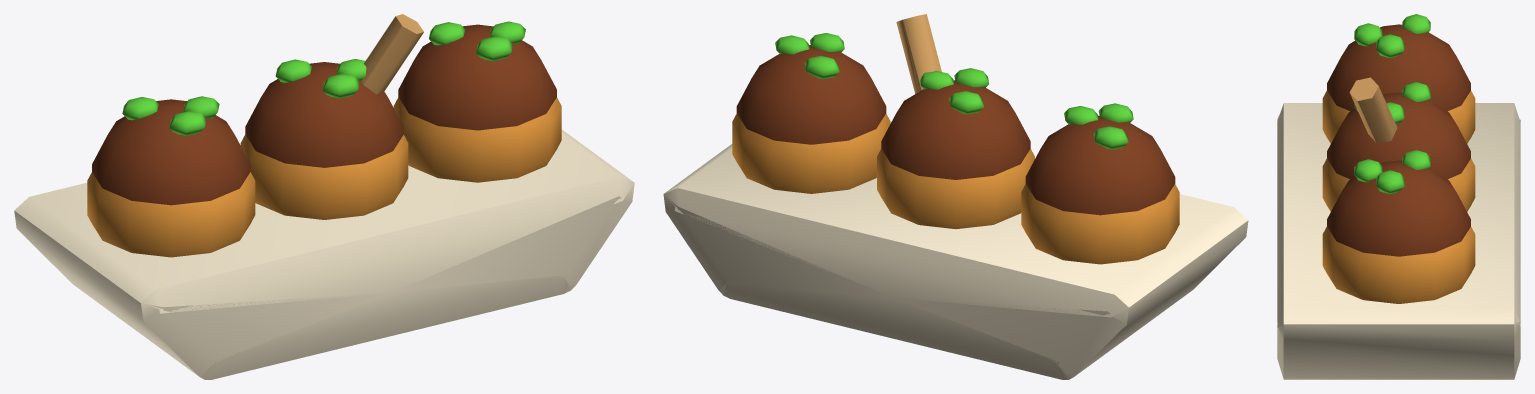
The model's file is Food_takoyaki.glb.
The picture shows the model from 3 angles, left to right: view 1: azimuth 30°, elevation 25°; view 2: azimuth 150°, elevation 25°; view 3: azimuth 270°, elevation 25°; orthographic projection. The views are drawn at different scales.
Parts seen in each view (by area): view 1: Boat_FFF3D6, Sauce_7A3B1C, Batter_F2A03D, Aonori_5BD43A, Pick_D9A35F; view 2: Boat_FFF3D6, Sauce_7A3B1C, Batter_F2A03D, Aonori_5BD43A, Pick_D9A35F; view 3: Boat_FFF3D6, Sauce_7A3B1C, Batter_F2A03D, Aonori_5BD43A, Pick_D9A35F.
Part boxes in pixels (x1=…): Boat_FFF3D6: x1=14, y1=129, x2=634, y2=379; Sauce_7A3B1C: x1=92, y1=24, x2=556, y2=205; Batter_F2A03D: x1=87, y1=97, x2=561, y2=257; Aonori_5BD43A: x1=122, y1=21, x2=525, y2=135; Pick_D9A35F: x1=361, y1=14, x2=423, y2=94; Boat_FFF3D6: x1=663, y1=144, x2=1248, y2=379; Sauce_7A3B1C: x1=736, y1=45, x2=1175, y2=215; Batter_F2A03D: x1=732, y1=113, x2=1179, y2=264; Aonori_5BD43A: x1=775, y1=33, x2=1133, y2=149; Pick_D9A35F: x1=896, y1=14, x2=941, y2=93; Boat_FFF3D6: x1=1277, y1=103, x2=1520, y2=379; Sauce_7A3B1C: x1=1327, y1=24, x2=1470, y2=256; Batter_F2A03D: x1=1322, y1=91, x2=1475, y2=303; Aonori_5BD43A: x1=1354, y1=14, x2=1430, y2=194; Pick_D9A35F: x1=1349, y1=77, x2=1397, y2=143.
Bounding box in the file's own units: 2.39 × 1.26 × 1.12.
